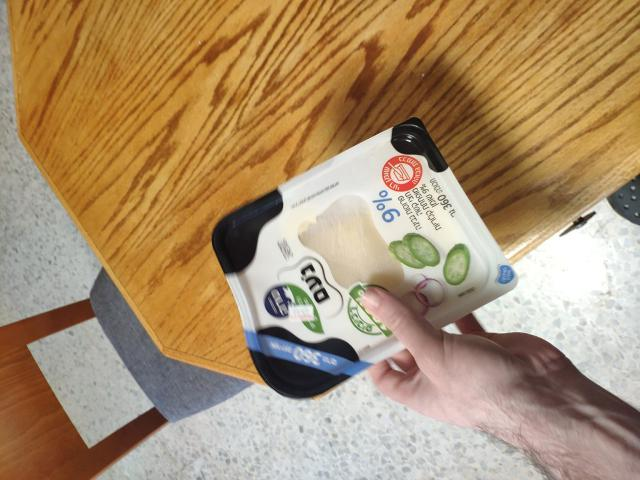cheese: (216, 134, 480, 393)
